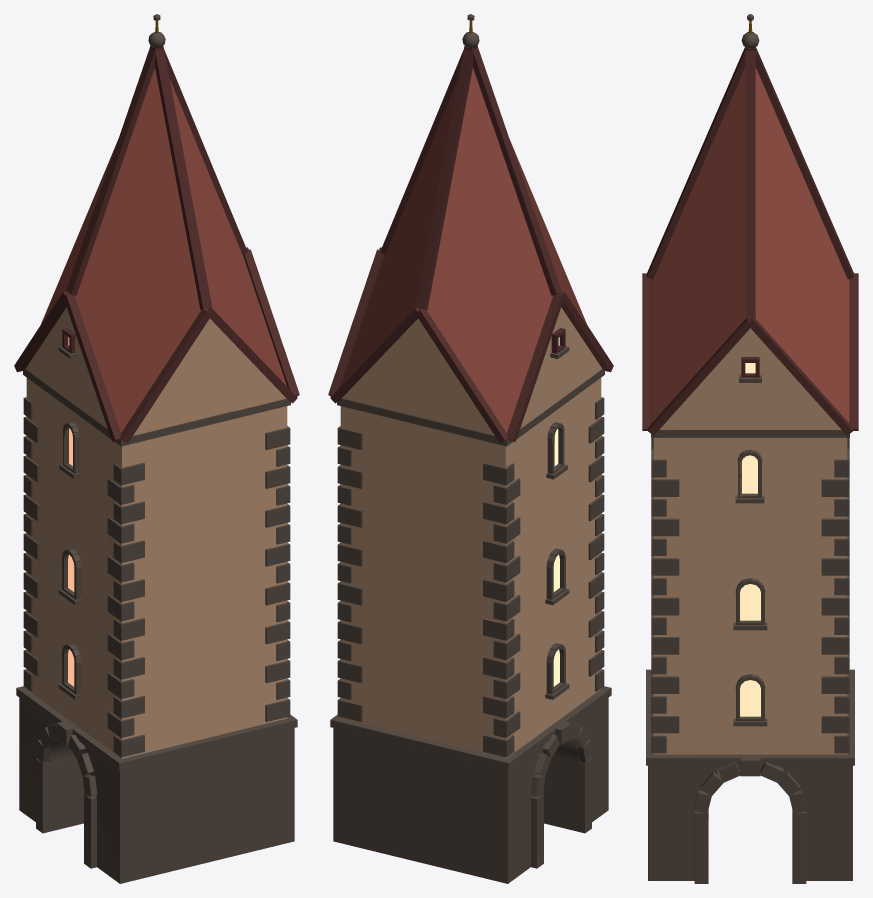
Rendered from GameProject3_Turm_Variante2.3.fbx.
3 renders of one model, left to right at view 1: azimuth 30°, elevation 25°; view 2: azimuth 150°, elevation 25°; view 3: azimuth 270°, elevation 25°, orthographic.
Visible parts, largest first — view 1: SM_Turm_Variante2.3; view 2: SM_Turm_Variante2.3; view 3: SM_Turm_Variante2.3.
Boxes of the visible parts, bbox=[...] form: SM_Turm_Variante2.3: bbox=[14, 14, 299, 883]; SM_Turm_Variante2.3: bbox=[328, 14, 613, 883]; SM_Turm_Variante2.3: bbox=[642, 14, 858, 883].
Bounding box in the file's own units: 803 × 3260 × 777.
1 material, 1 textured.
